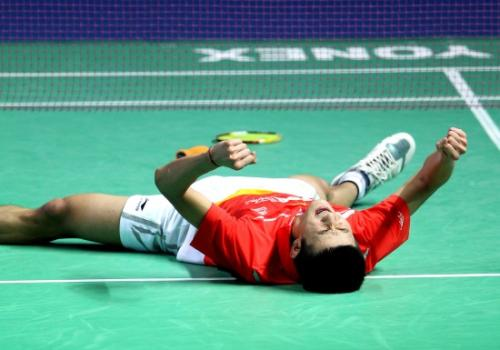fall: (1, 117, 488, 298)
